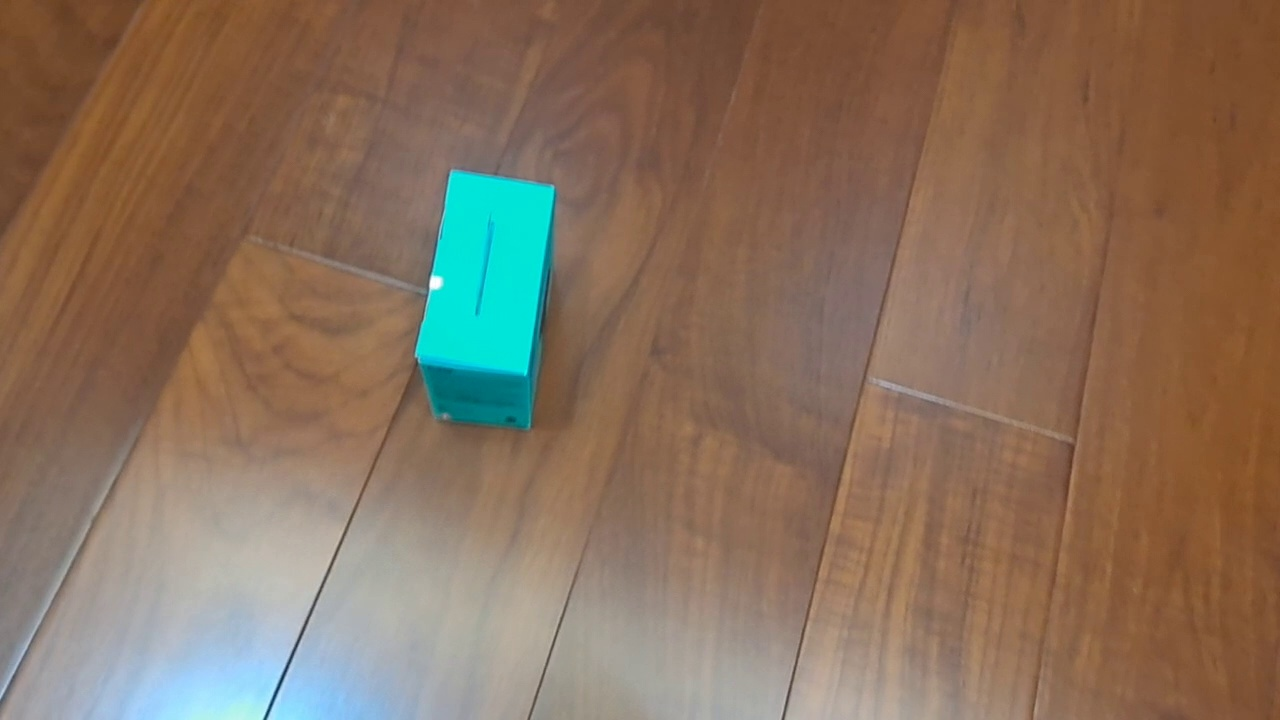webcam: (414, 168, 557, 431)
